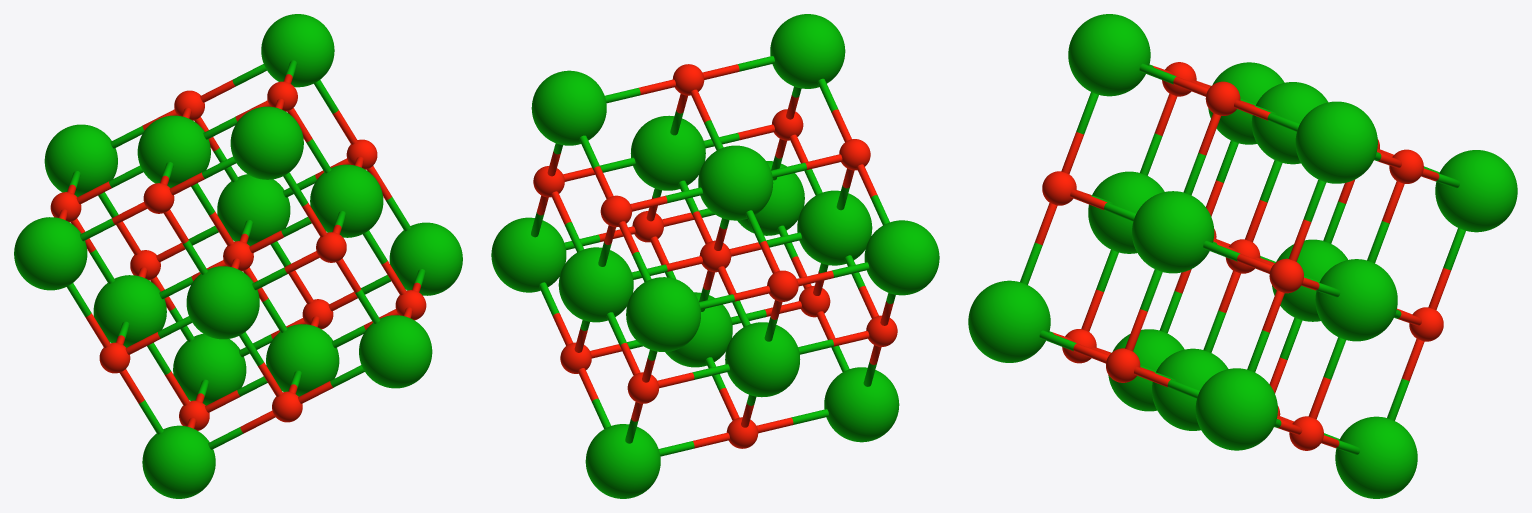
Rendered from CaO.glb.
3 views of the same model, side by side, from view 1: azimuth 30°, elevation 25°; view 2: azimuth 150°, elevation 25°; view 3: azimuth 270°, elevation 25° (orthographic). The views are drawn at different scales.
Visible parts, largest first — view 1: CMAtom_12, CMAtom_0, CMAtom_24, CMAtom_2, CMAtom_18, CMAtom_16, CMAtom_1, CMAtom_8, CMAtom_13, CMAtom_26, CMAtom_19, CMAtom_3 (+15 smaller); view 2: CMAtom_26, CMAtom_24, CMAtom_16, CMAtom_13, CMAtom_12, CMAtom_22, CMAtom_18, CMAtom_19, CMAtom_8, CMAtom_9, CMAtom_2, CMAtom_1 (+15 smaller); view 3: CMAtom_8, CMAtom_16, CMAtom_12, CMAtom_0, CMAtom_1, CMAtom_9, CMAtom_22, CMAtom_26, CMAtom_2, CMAtom_13, CMAtom_3, CMAtom_24 (+12 smaller).
Boxes of the visible parts, x1,y1,x2,y2 form: CMAtom_12: [230, 106, 303, 179]; CMAtom_0: [359, 315, 432, 388]; CMAtom_24: [14, 217, 87, 290]; CMAtom_2: [186, 266, 259, 339]; CMAtom_18: [142, 425, 215, 498]; CMAtom_16: [261, 14, 334, 87]; CMAtom_1: [310, 164, 383, 237]; CMAtom_8: [389, 222, 462, 295]; CMAtom_13: [137, 115, 210, 187]; CMAtom_26: [44, 124, 117, 196]; CMAtom_19: [93, 275, 166, 347]; CMAtom_3: [266, 324, 339, 396]; CMAtom_26: [626, 277, 700, 351]; CMAtom_24: [864, 220, 939, 295]; CMAtom_16: [531, 70, 606, 145]; CMAtom_13: [698, 145, 773, 220]; CMAtom_12: [770, 14, 845, 88]; CMAtom_22: [585, 424, 660, 498]; CMAtom_18: [824, 367, 899, 442]; CMAtom_19: [725, 322, 800, 397]; CMAtom_8: [491, 217, 566, 292]; CMAtom_9: [558, 247, 633, 322]; CMAtom_2: [797, 190, 872, 265]; CMAtom_1: [630, 115, 705, 190]; CMAtom_8: [1195, 368, 1277, 450]; CMAtom_16: [1295, 101, 1377, 183]; CMAtom_12: [1068, 14, 1150, 96]; CMAtom_0: [968, 280, 1050, 362]; CMAtom_1: [1132, 191, 1214, 273]; CMAtom_9: [1315, 259, 1397, 341]; CMAtom_22: [1335, 416, 1417, 498]; CMAtom_26: [1435, 150, 1517, 232]; CMAtom_2: [1088, 171, 1164, 253]; CMAtom_13: [1251, 82, 1327, 164]; CMAtom_3: [1152, 348, 1228, 430]; CMAtom_24: [1208, 62, 1284, 144].
Size of the model in its own units: 9.51 by 8.27 by 9.28.
